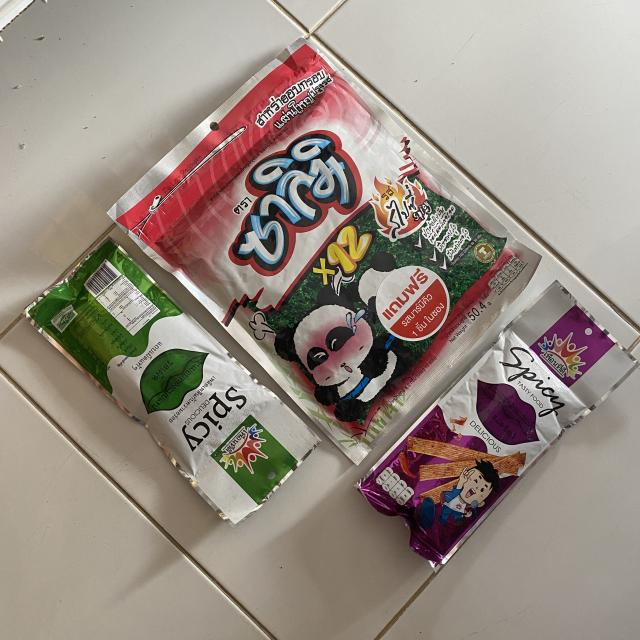plastik: (109, 38, 539, 462), (25, 239, 319, 524), (359, 284, 636, 565)
